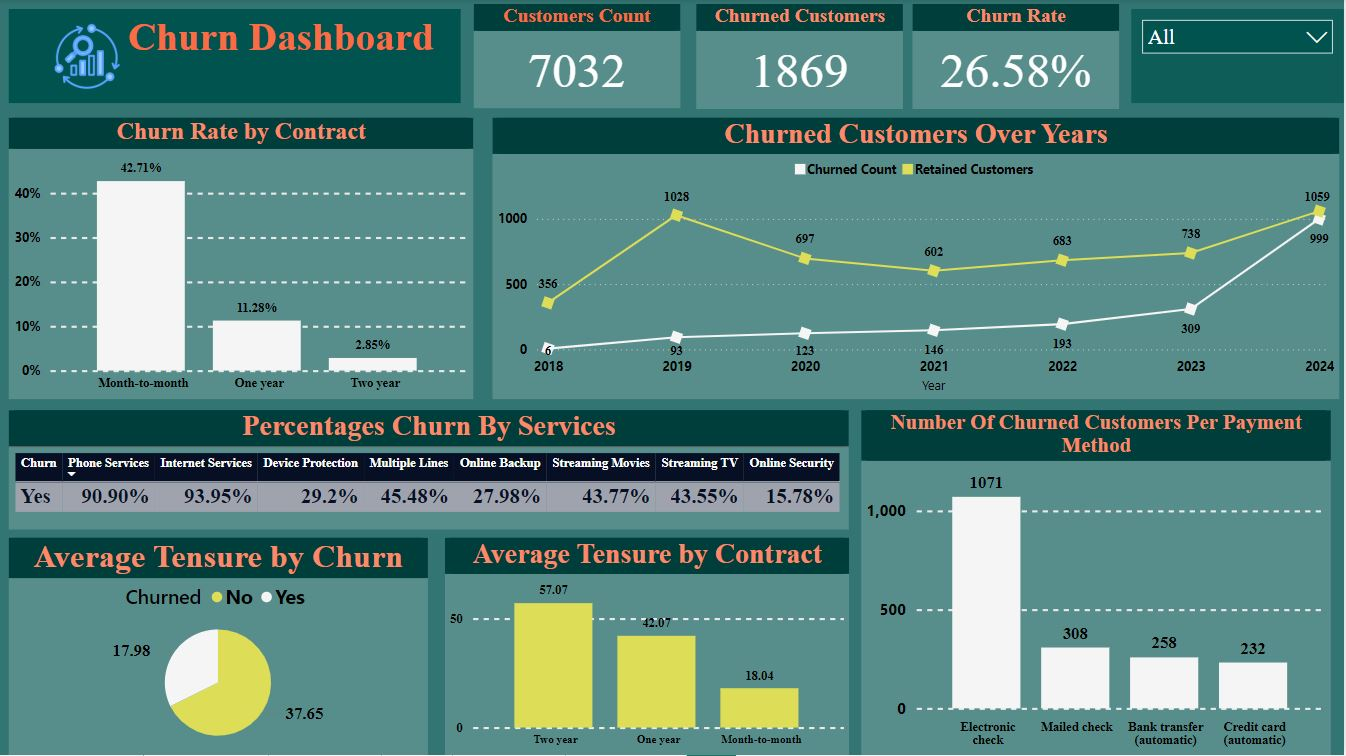

Layout of this report page (visuals, bound fields, positions):
{"tool":"powerbi","page":{"name":"Dashboard","canvas":[1280,720],"ordinal":0},"visuals":[{"type":"card","title":"Customers Count","fields":{"Values":["churn analysis dataset.Customer Count"]},"box":[451.5,4.8,196.4,99.4],"z":0},{"type":"card","title":"Churned Customers","fields":{"Values":["churn analysis dataset.Churned Count"]},"box":[663.2,5,197,99.7],"z":1000},{"type":"card","title":"Churn Rate","fields":{"Values":["churn analysis dataset.Churn Rate"]},"box":[868.9,5,197,99.7],"z":2000},{"type":"textbox","box":[8.7,10,430.1,89.8],"z":3000},{"type":"clusteredColumnChart","title":"Churn Rate by Contract","fields":{"Category":["churn analysis dataset.Contract"],"Y":["churn analysis dataset.Churn Rate"]},"box":[8.7,113.4,442.5,268],"z":4000},{"type":"pieChart","title":"Average Tensure by Churn","fields":{"Category":["churn analysis dataset.Churn"],"Y":["churn analysis dataset.Average Tensure"]},"box":[8.7,513.6,398.9,206.9],"z":5000},{"type":"clusteredColumnChart","title":"Average Tensure by Contract","fields":{"Category":["churn analysis dataset.Contract"],"Y":["Measures (2).Average Tensure"]},"box":[423.8,513.6,385.2,206.9],"z":6000},{"type":"tableEx","title":"Percentages Churn By Services","fields":{"Values":["churn analysis dataset.Churn","churn analysis dataset.Count Of Phone Services","churn analysis dataset.Count Of InternetService","churn analysis dataset.Count Of DeviceProtection","churn analysis dataset.Count Of MultipleLines","churn analysis dataset.Count Of OnlineBackup","churn analysis dataset.Count Of StreamingMovies","churn analysis dataset.Count Of StreamingTV","churn analysis dataset.Count Of OnlineSecurity"]},"box":[8.7,391.4,800.3,113.4],"z":7000},{"type":"lineChart","title":"Churned Customers Over Years","fields":{"Category":["churn analysis dataset.start date .Variation.Date Hierarchy.Year","churn analysis dataset.start date .Variation.Date Hierarchy.Quarter","churn analysis dataset.start date .Variation.Date Hierarchy.Month","churn analysis dataset.start date .Variation.Date Hierarchy.Day"],"Y":["churn analysis dataset.Churned Count","churn analysis dataset.Retained Customers"]},"box":[468.7,113.4,806.5,268],"z":8000},{"type":"clusteredColumnChart","title":"Number Of Churned Customers Per Payment Method","fields":{"Category":["churn analysis dataset.PaymentMethod"],"Series":["churn analysis dataset.Churn"],"Y":["CountNonNull(churn analysis dataset.customerID)"]},"box":[820.3,391.4,447.5,329.1],"z":9000},{"type":"slicer","fields":{"Values":["churn analysis dataset.start date .Variation.Date Hierarchy.Year"]},"box":[1077.8,9.6,202.4,89.8],"z":10000},{"type":"image","box":[28.6,17.9,108.3,73.8],"z":11000}]}

Visuals, with their boxes in screenshot pixels (x1, y1, x2, y2), scaled from the page's 1280x720 canvas onto the 1346x756 screenshot:
"Customers Count" card: <bbox>475, 5, 681, 109</bbox>
"Churned Customers" card: <bbox>697, 5, 905, 110</bbox>
"Churn Rate" card: <bbox>914, 5, 1121, 110</bbox>
textbox: <bbox>9, 10, 461, 105</bbox>
"Churn Rate by Contract" clusteredColumnChart: <bbox>9, 119, 474, 400</bbox>
"Average Tensure by Churn" pieChart: <bbox>9, 539, 429, 755</bbox>
"Average Tensure by Contract" clusteredColumnChart: <bbox>446, 539, 851, 755</bbox>
"Percentages Churn By Services" tableEx: <bbox>9, 411, 851, 530</bbox>
"Churned Customers Over Years" lineChart: <bbox>493, 119, 1341, 400</bbox>
"Number Of Churned Customers Per Payment Method" clusteredColumnChart: <bbox>863, 411, 1333, 755</bbox>
slicer - churn analysis dataset.start date .Variation.Date Hierarchy.Year: <bbox>1133, 10, 1345, 104</bbox>
image: <bbox>30, 19, 144, 96</bbox>
